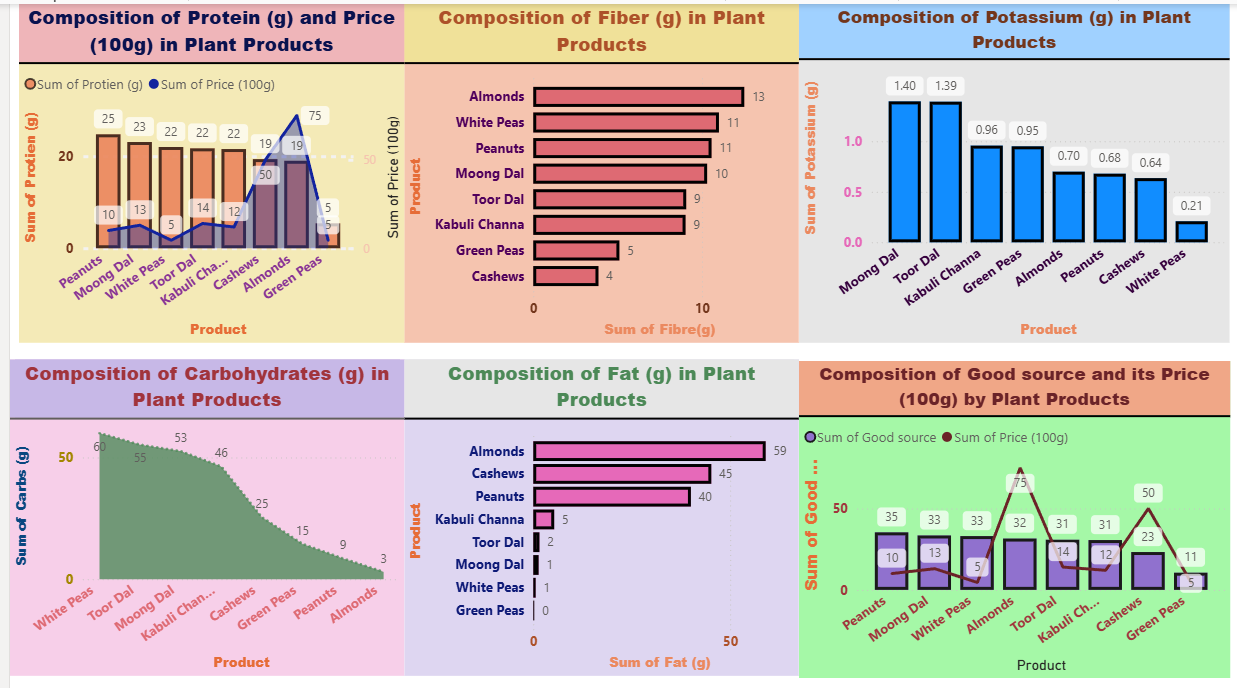

Layout of this report page (visuals, bound fields, positions):
{"tool":"powerbi","page":{"name":"Plant Products","canvas":[1280,720],"ordinal":0},"visuals":[{"type":"lineStackedColumnComboChart","title":"Composition of Protein (g) and Price (100g) in Plant Products","fields":{"Category":["Plant nutrition.Product "],"Y":["Sum(Plant nutrition.Protien (g))"],"Y2":["Sum(Plant nutrition.Price (100g))"]},"box":[9.1,0,389.2,342.2],"z":0},{"type":"areaChart","title":"Composition of Carbohydrates (g) in Plant Products","fields":{"Category":["Plant nutrition.Product "],"Y":["Sum(Plant nutrition.Carbs (g))"]},"box":[0,358.9,398.2,319.5],"z":1000},{"type":"clusteredBarChart","title":"Composition of Fiber (g) in Plant Products ","fields":{"Category":["Plant nutrition.Product "],"Y":["Sum(Plant nutrition.Fibre(g))"]},"box":[398.2,0,398.2,342.2],"z":2000},{"type":"clusteredBarChart","title":"Composition of Fat (g) in Plant Products","fields":{"Category":["Plant nutrition.Product "],"Y":["Sum(Plant source nutrition.Fat (g))"]},"box":[398.2,358.9,398.2,319.5],"z":3000},{"type":"lineStackedColumnComboChart","title":"Composition of Potassium (g) in Plant Products","fields":{"Category":["Plant nutrition.Product "],"Y":["Sum(Plant nutrition.Potassium (g))"]},"box":[796.5,0,434.6,342.2],"z":4000},{"type":"lineClusteredColumnComboChart","title":"Composition of Good source and its Price (100g) by Plant Products","fields":{"Category":["Plant source nutrition.Product "],"Y2":["Sum(Plant source nutrition.Price (100g))"],"Y":["Sum(Plant source nutrition.Good source)"]},"box":[796.7,360,435,320],"z":5000}]}

Visuals, with their boxes in screenshot pixels (x1, y1, x2, y2), scaled from the page's 1280x720 canvas onto the 1237x688 screenshot:
"Composition of Protein (g) and Price (100g) in Plant Products" lineStackedColumnComboChart: box=[9, 0, 385, 327]
"Composition of Carbohydrates (g) in Plant Products" areaChart: box=[0, 343, 385, 648]
"Composition of Fiber (g) in Plant Products " clusteredBarChart: box=[385, 0, 770, 327]
"Composition of Fat (g) in Plant Products" clusteredBarChart: box=[385, 343, 770, 648]
"Composition of Potassium (g) in Plant Products" lineStackedColumnComboChart: box=[770, 0, 1190, 327]
"Composition of Good source and its Price (100g) by Plant Products" lineClusteredColumnComboChart: box=[770, 344, 1190, 650]
